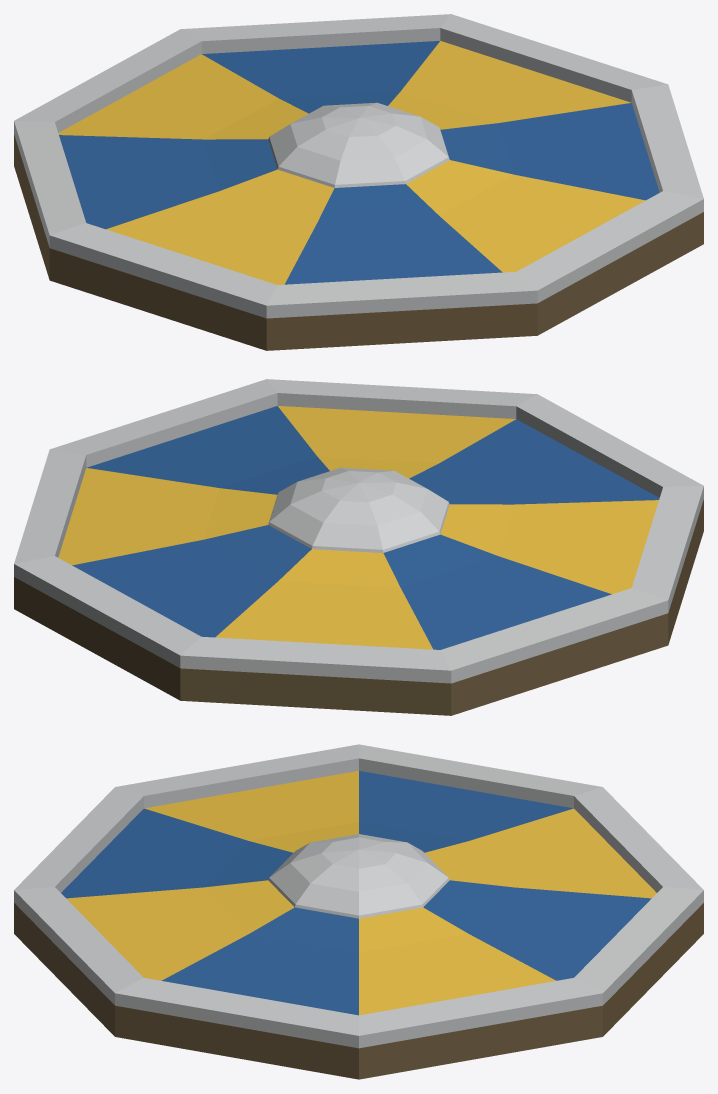
Rendered from Shield.fbx.
3 renders of one model, top to bottom at view 1: azimuth 30°, elevation 25°; view 2: azimuth 150°, elevation 25°; view 3: azimuth 270°, elevation 25°, orthographic. The views are drawn at different scales.
Visible parts, largest first — view 1: Cylinder.005; view 2: Cylinder.005; view 3: Cylinder.005.
Boxes of the visible parts, x1,y1,x2,y2 form: Cylinder.005: (14,14,703,350); Cylinder.005: (14,379,703,715); Cylinder.005: (14,744,703,1079).
Bounding box in the file's own units: 100 × 13.45 × 100.
